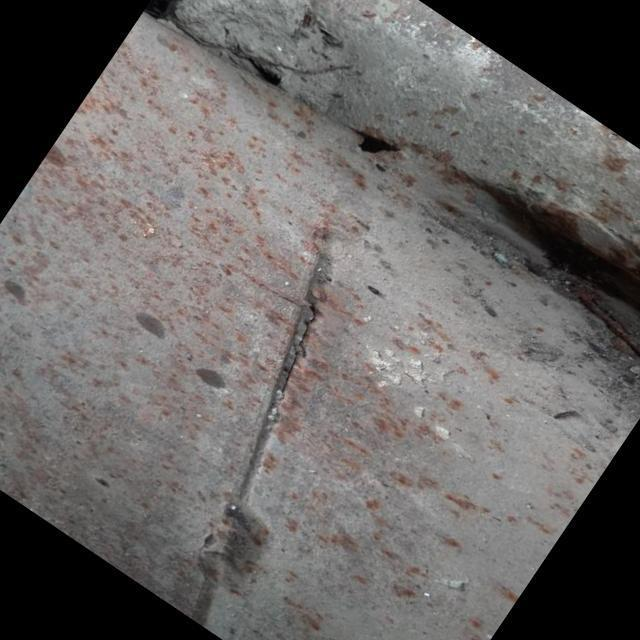defect: (269, 298, 319, 405)
